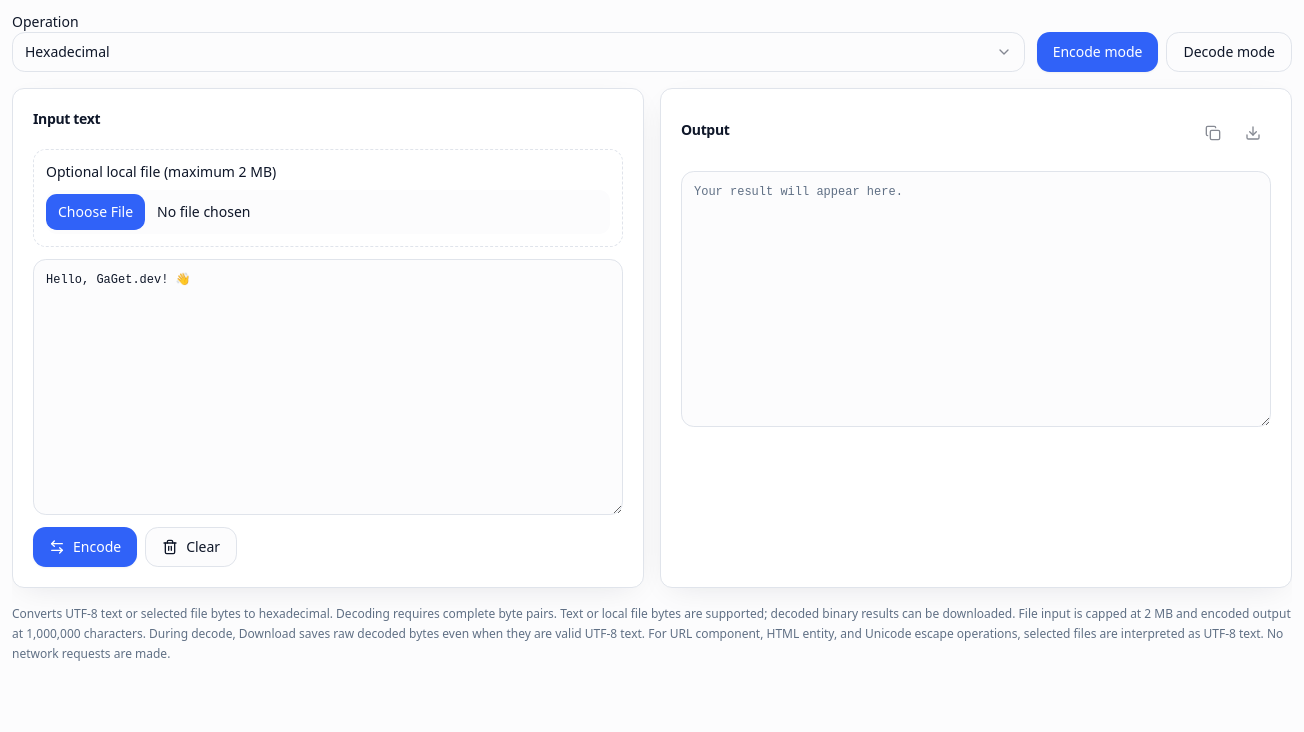
it: keeps decoded UTF-8 readable while retaining byte download
Click the button "Decode mode" at (1229,52), box [1166,32,1292,72]
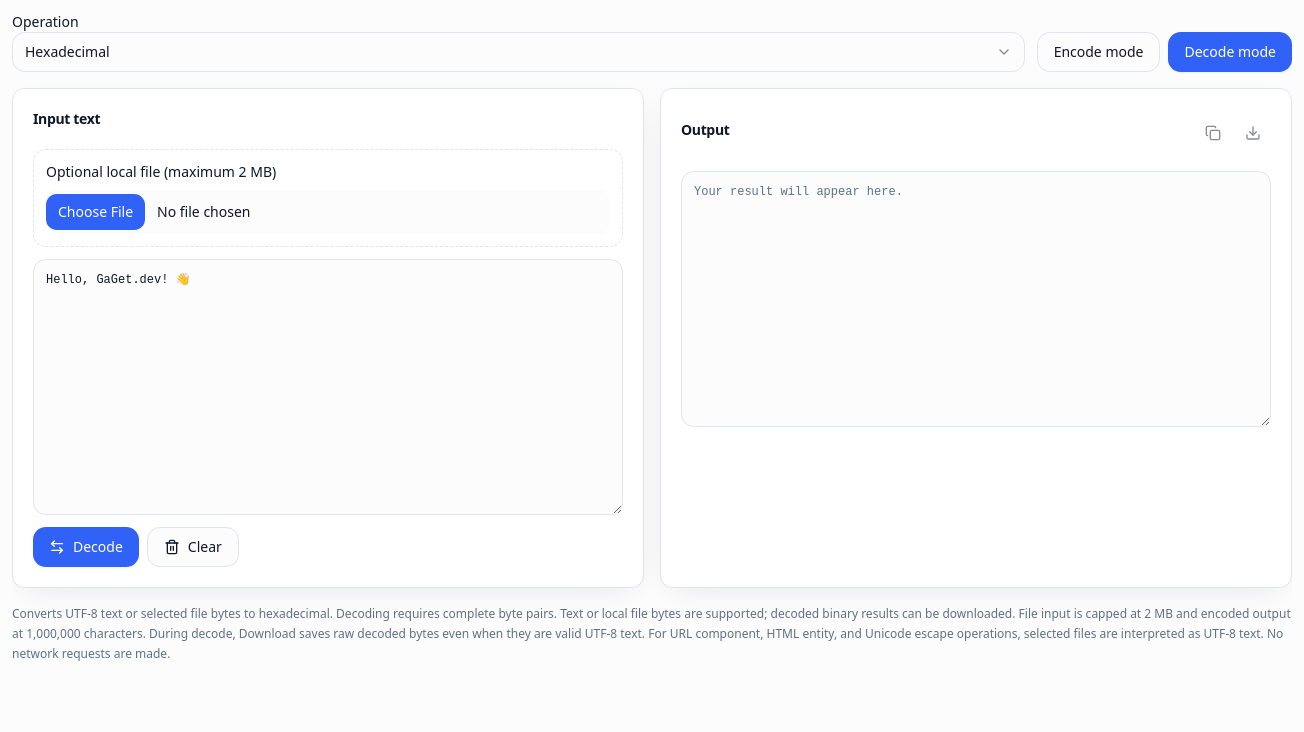
Replace the text in the text box named "Encoding input" with "48656c6c6f" at (328,387), box [33,259,623,515]
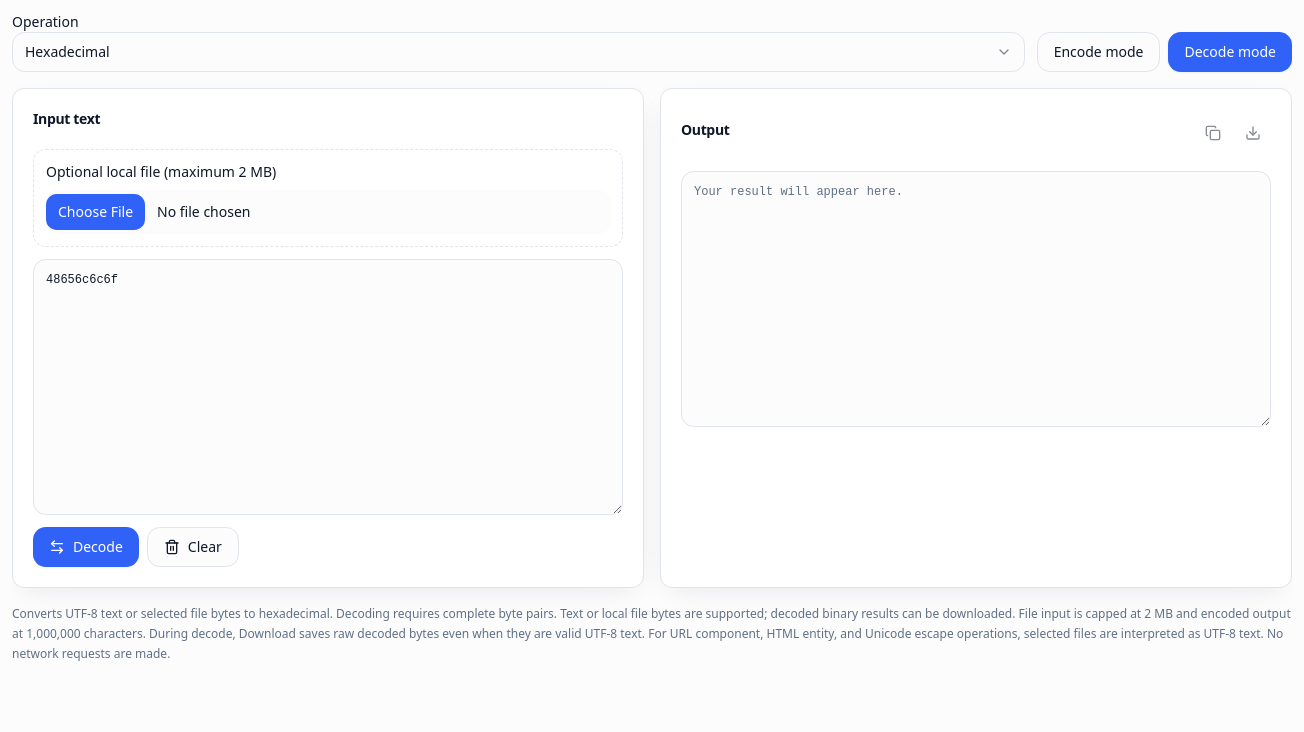
Click the button "Decode" at (86,547), box [33,527,139,567]
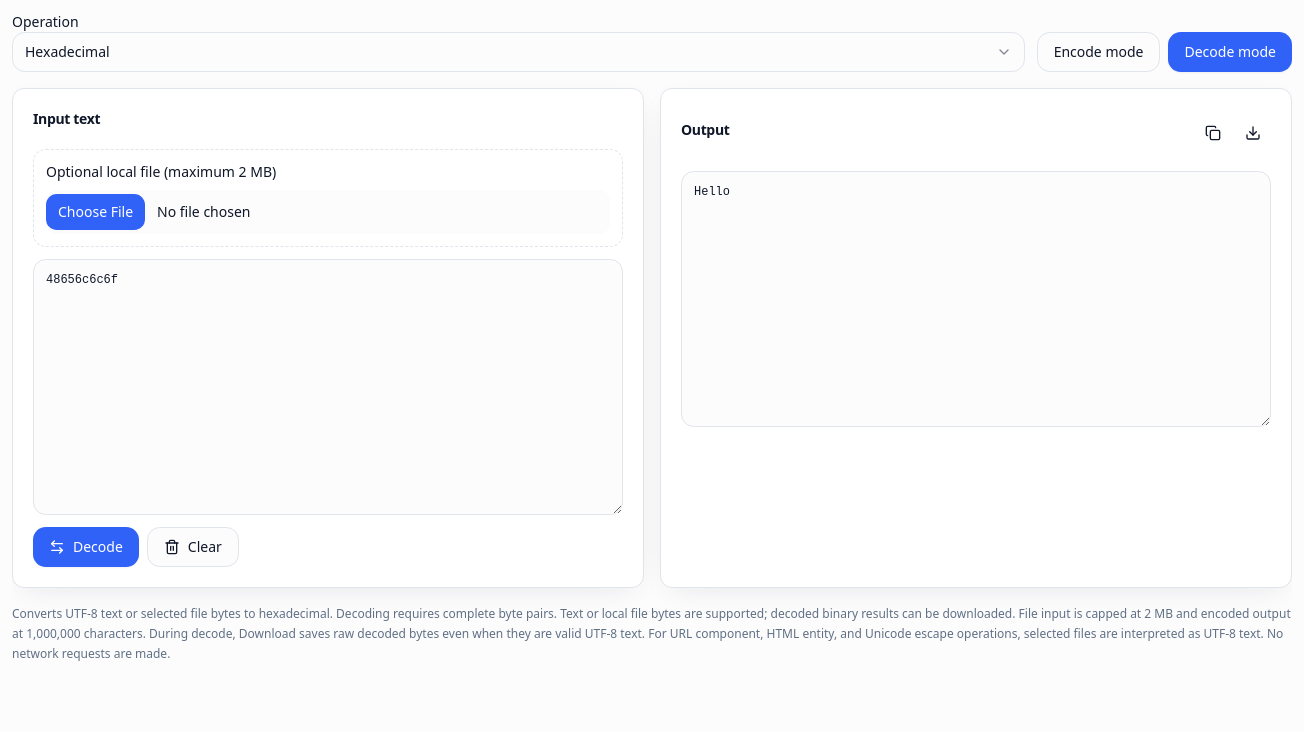
Check: the text box named "Encoding output" holds "Hello", box [681,171,1271,427]
Check: the button named "Download encoding output or decoded bytes" is enabled, box [1235,115,1271,151]
